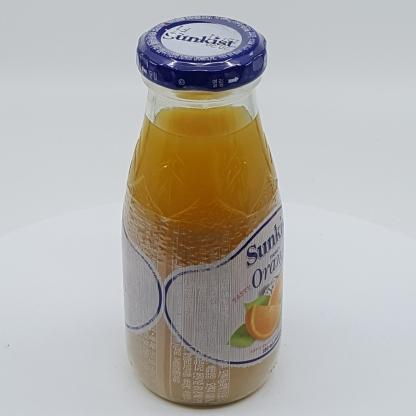----------180ML: (121, 15, 284, 406)
